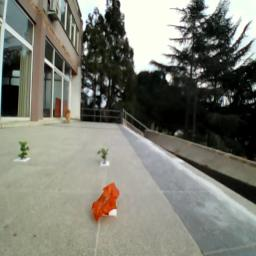herb: (18, 141, 31, 163), (99, 148, 109, 165)
wild: (92, 184, 121, 223)
